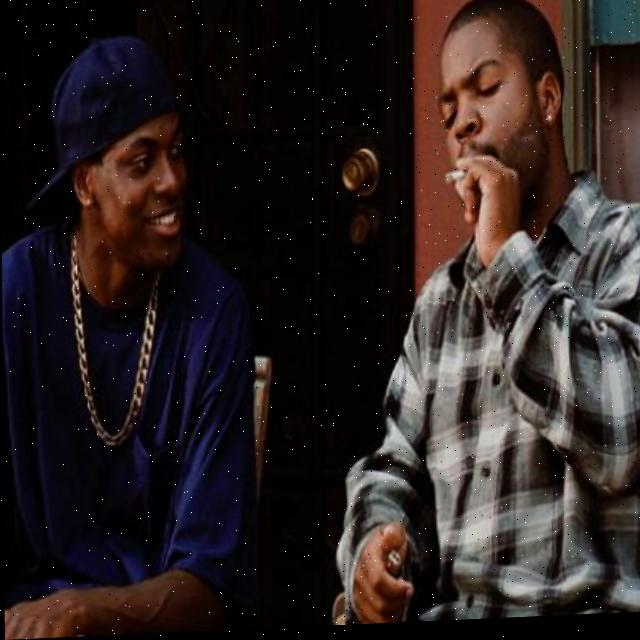cigarette: (441, 173, 467, 190)
